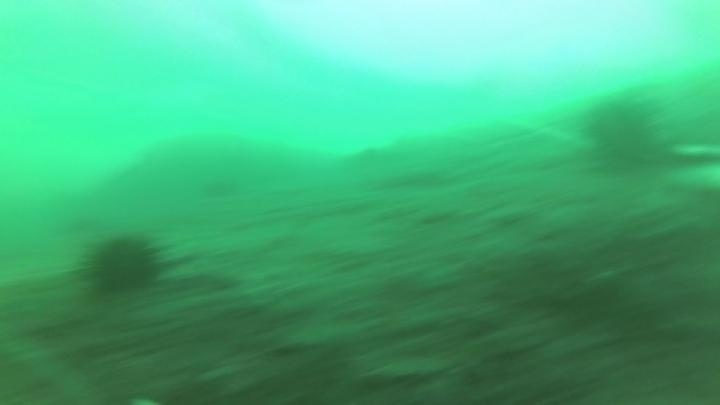echinus: (581, 93, 664, 172), (78, 228, 168, 300)
